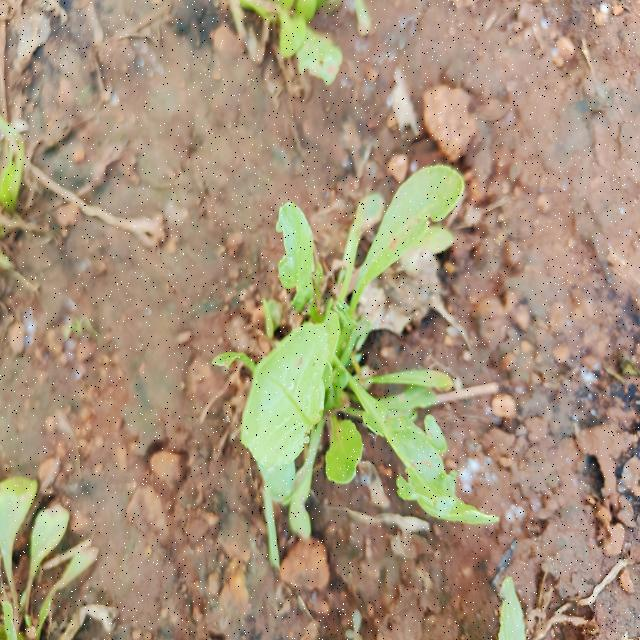leaves: (325, 341, 522, 526), (326, 164, 474, 368), (214, 308, 340, 536), (257, 176, 344, 353)
